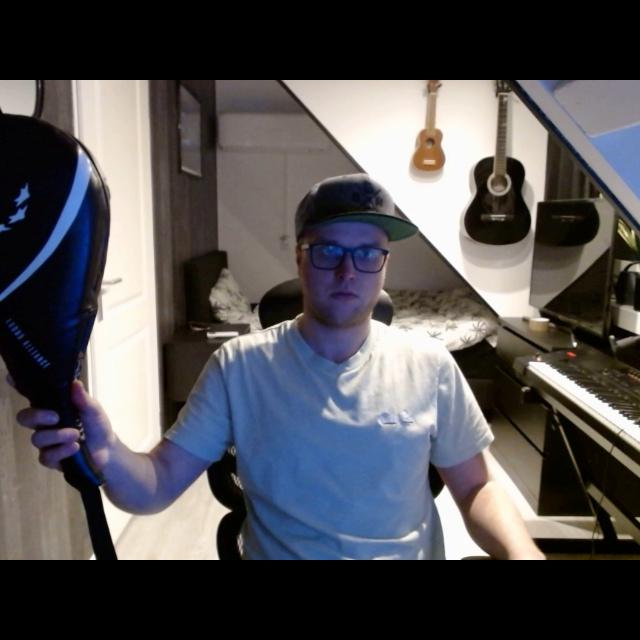paddle: (1, 113, 113, 433)
